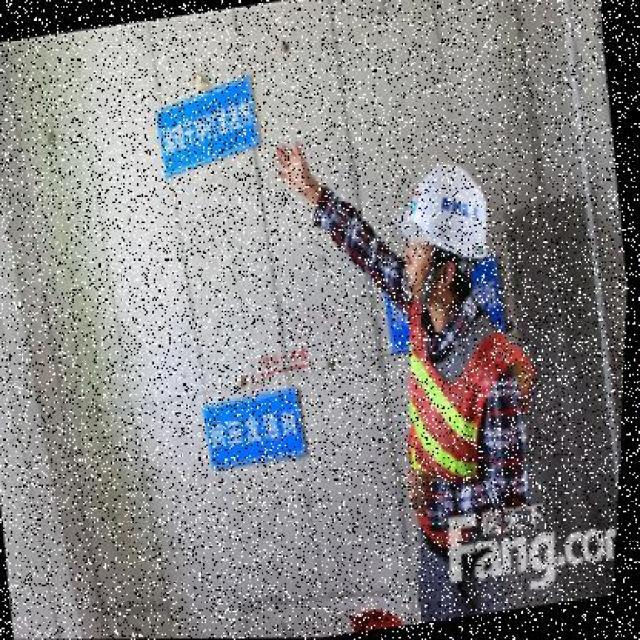helmet: (386, 157, 498, 271)
vest: (383, 288, 551, 570)
